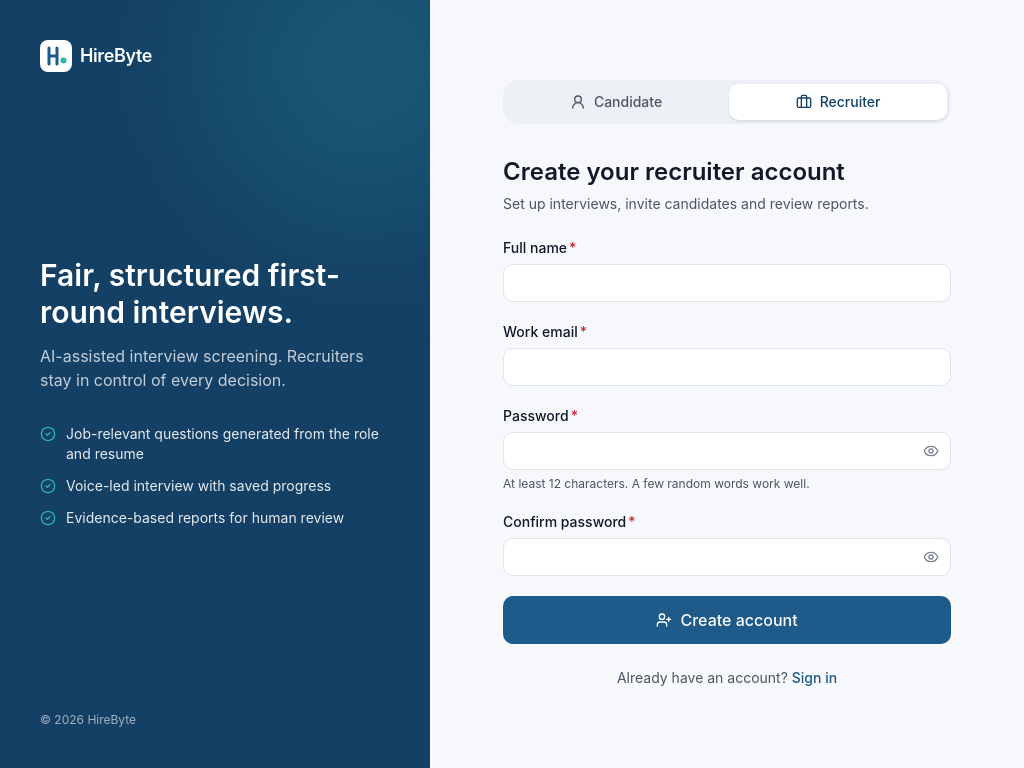
RecruiterRegisterPage › shows the server’s field messages, such as an obvious password
Type "Priya Sharma" into the field labelled "Full name*" at [727, 283], box [503,264,951,302]
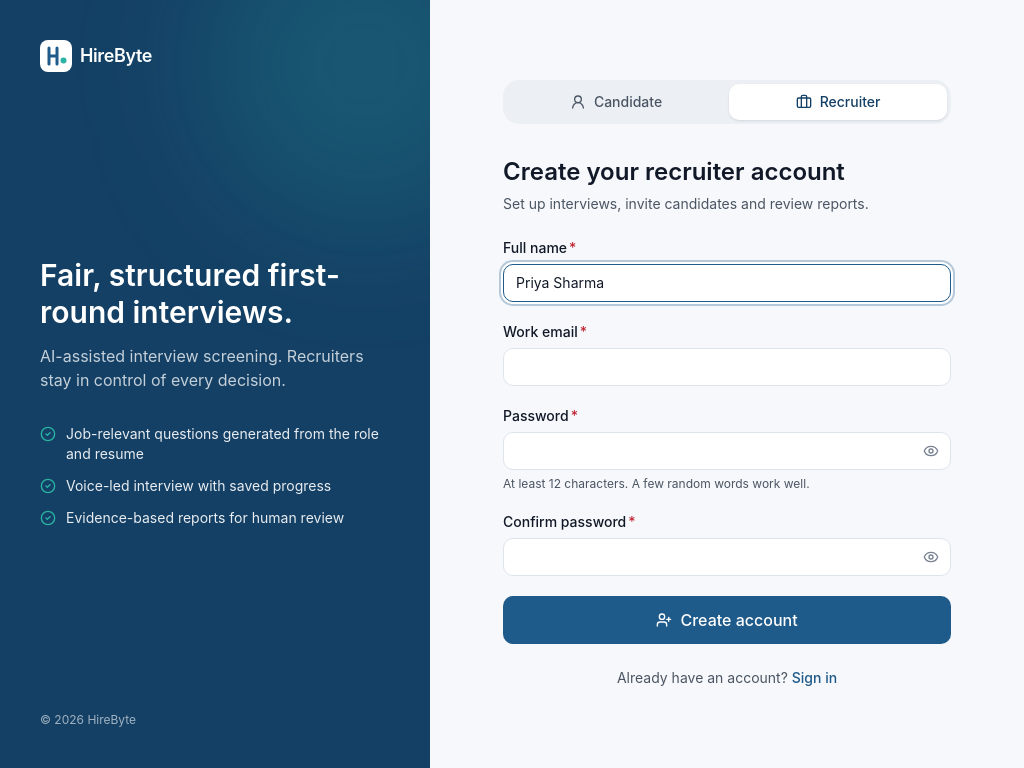
Type "priya@example.test" into the field labelled "Work email*" at [727, 367], box [503,348,951,386]
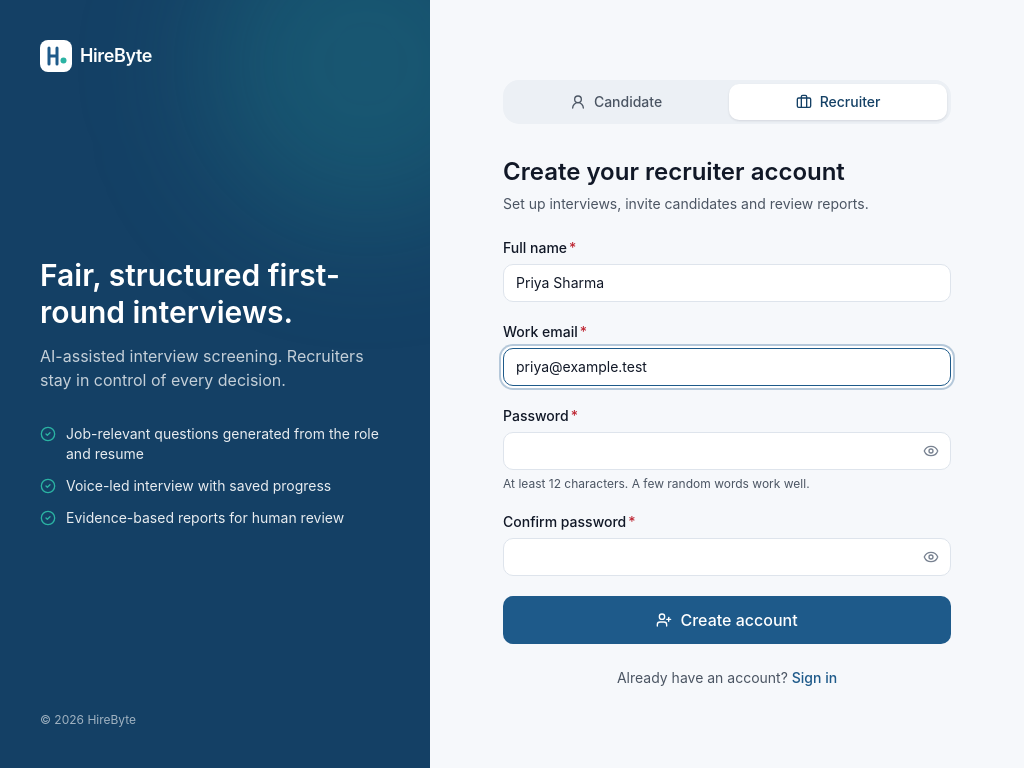
Type "password1234" into the password field labelled "Password*" at [727, 451], box [503,432,951,470]
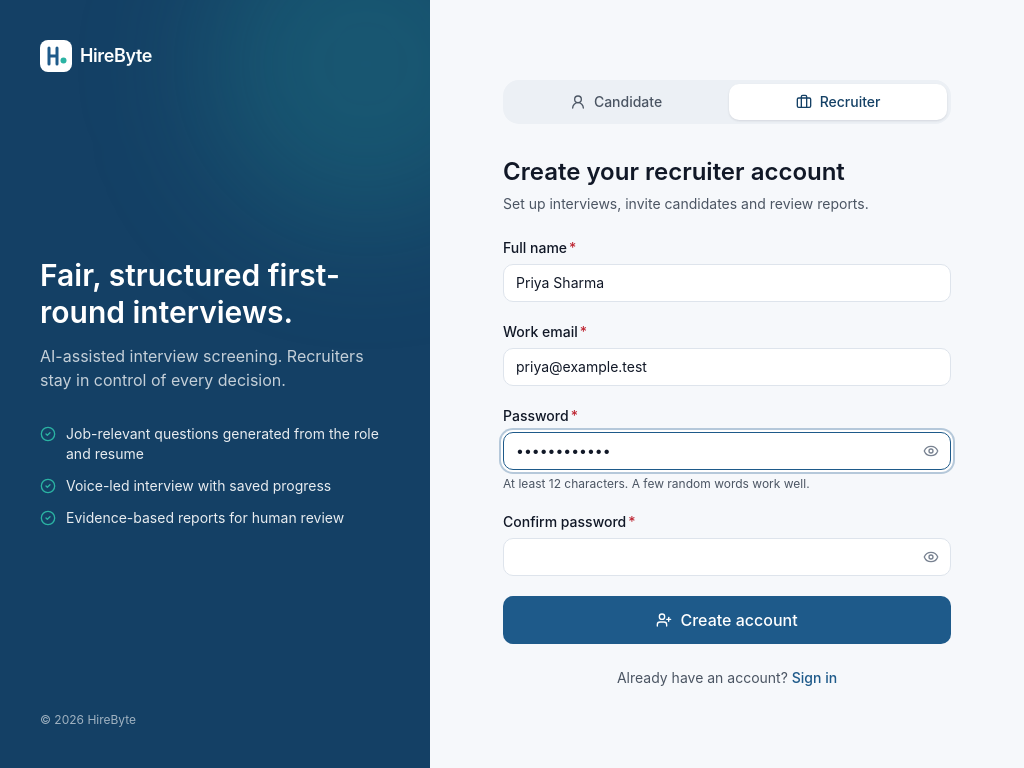
Type "password1234" into the password field labelled "Confirm password*" at [727, 557], box [503,538,951,576]
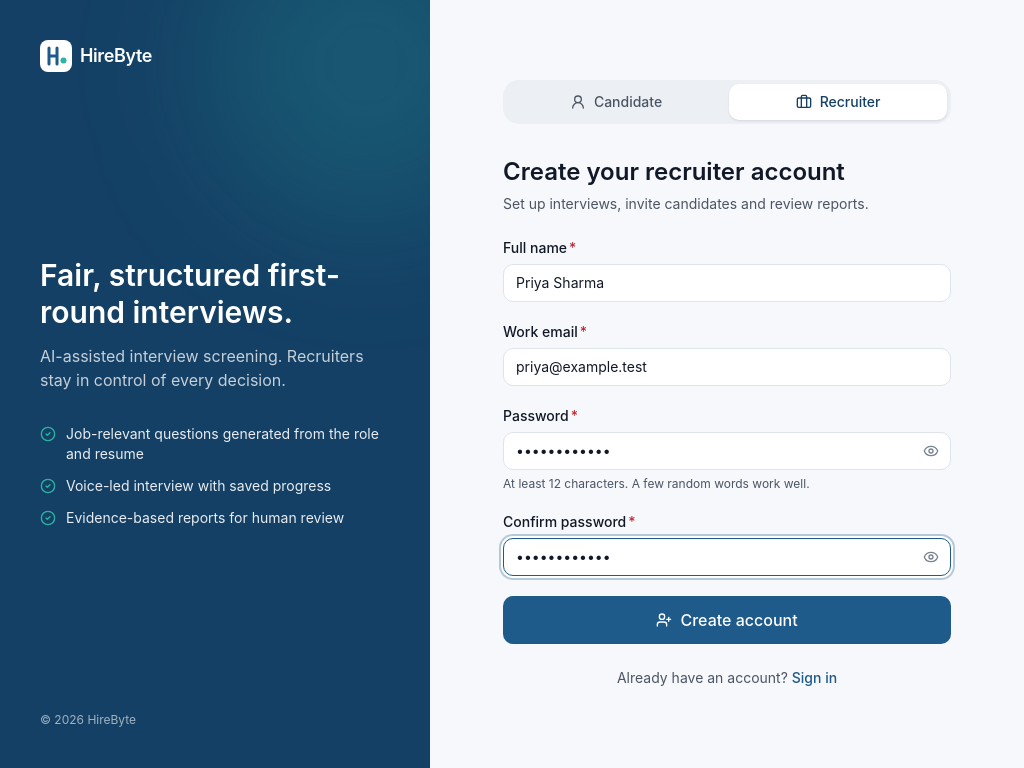
Click the button "Create account" at [727, 620], box [503,596,951,644]
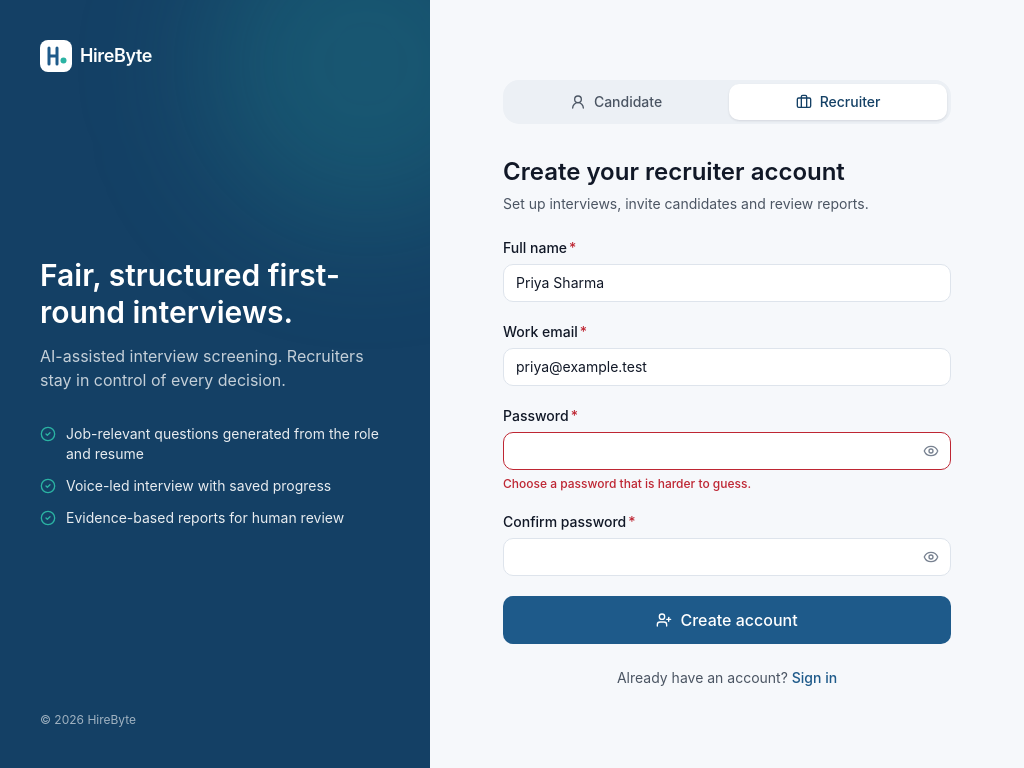
Expected: the text "Choose a password that is harder to guess." is shown, [503,476,751,491]
